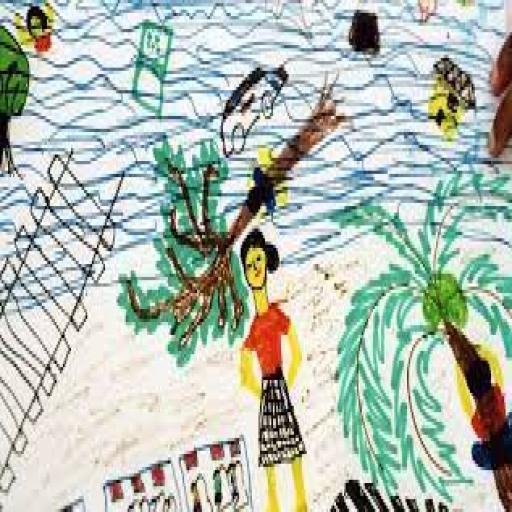person: (236, 228, 320, 512)
